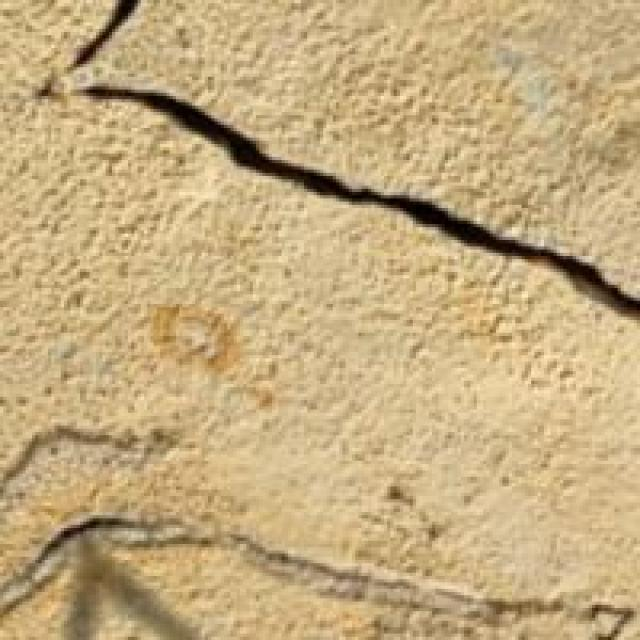crack: (38, 0, 637, 339)
